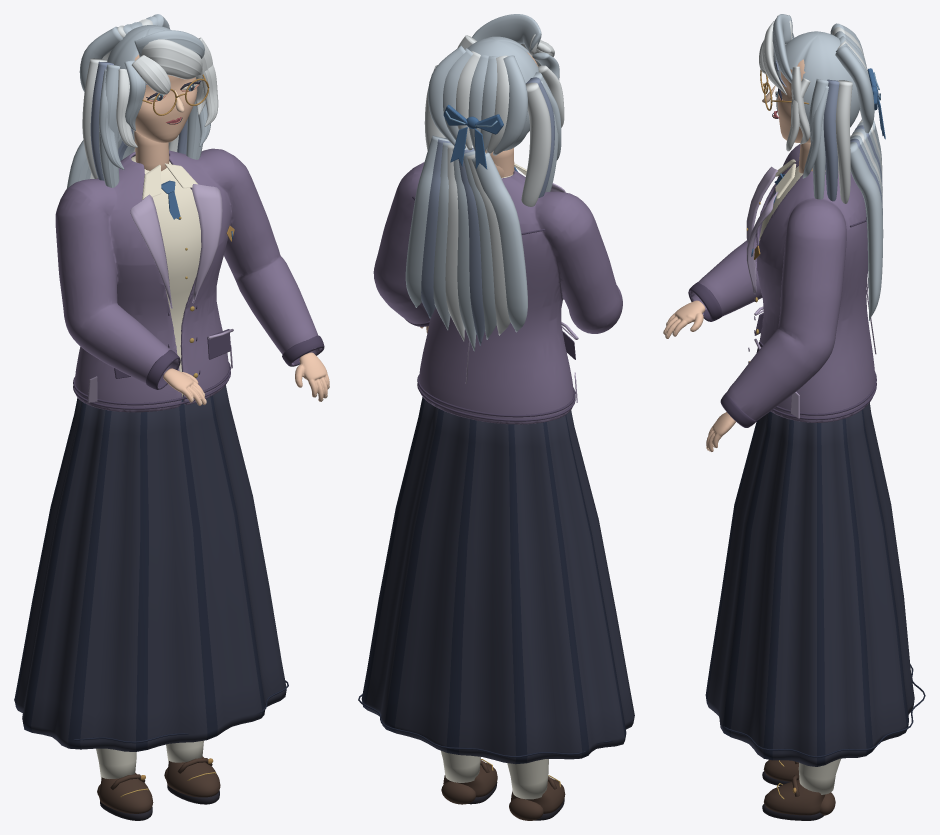
Rendered from study-companion.glb.
The picture shows the model from 3 angles, left to right: view 1: azimuth 30°, elevation 25°; view 2: azimuth 150°, elevation 25°; view 3: azimuth 270°, elevation 25°; orthographic projection.
Visible parts, largest first — view 1: lowerStand__Long pleated charcoal skirt, upper_look__Continuous shoulder axilla cardigan, upper_look__Ivory blouse under cardigan, headOpen__Sculpted facial planes, upper_look__Rolled tailored lapel.001, upper_look__Rolled tailored lapel, hair__Swept fringe 00, lowerStand__Mary Jane leather upper.001, lowerStand__Mary Jane leather upper, hair__Long temple lock, hands_look__Continuous anatomical hand 1, hair__Long temple lock.002 (+17 smaller); view 2: lowerStand__Long pleated charcoal skirt, upper_look__Continuous shoulder axilla cardigan, upper_look__Long back sculpted ribbon 00, hair__Long temple lock.002, upper_look__Long back sculpted ribbon 08, upper_look__Long back sculpted ribbon 04, upper_look__Long back sculpted ribbon 05, upper_look__Long back sculpted ribbon 06, upper_look__Long back sculpted ribbon 03, upper_look__Long back sculpted ribbon 02, upper_look__Long back sculpted ribbon 07, upper_look__Long back sculpted ribbon 01 (+19 smaller); view 3: lowerStand__Long pleated charcoal skirt, upper_look__Continuous shoulder axilla cardigan, hair__Silver crown, upper_look__Long back sculpted ribbon 08, hair__Long temple lock.005, hair__Long temple lock.004, lowerStand__Mary Jane leather upper.001, hair__Crown back ridge.006, hair__Long temple lock.003, lowerStand__Cream stocking.001, hair__Swept fringe 01, hands_look__Continuous anatomical hand 0 (+12 smaller).
Part boxes in pixels (x1,y1,x2,y2): lowerStand__Long pleated charcoal skirt: (14, 385, 286, 751); upper_look__Continuous shoulder axilla cardigan: (55, 148, 322, 412); upper_look__Ivory blouse under cardigan: (131, 156, 201, 397); headOpen__Sculpted facial planes: (134, 54, 197, 142); upper_look__Rolled tailored lapel.001: (191, 184, 222, 303); upper_look__Rolled tailored lapel: (130, 194, 172, 308); hair__Swept fringe 00: (138, 39, 202, 79); lowerStand__Mary Jane leather upper.001: (166, 756, 220, 797); lowerStand__Mary Jane leather upper: (99, 773, 153, 813); hair__Long temple lock: (99, 64, 120, 187); hands_look__Continuous anatomical hand 1: (295, 352, 329, 401); hair__Long temple lock.002: (82, 58, 107, 178); lowerStand__Long pleated charcoal skirt: (361, 397, 634, 764); upper_look__Continuous shoulder axilla cardigan: (373, 162, 622, 424); upper_look__Long back sculpted ribbon 00: (471, 152, 527, 332); hair__Long temple lock.002: (521, 82, 551, 206); upper_look__Long back sculpted ribbon 08: (405, 135, 448, 307); upper_look__Long back sculpted ribbon 04: (452, 147, 476, 351); upper_look__Long back sculpted ribbon 05: (445, 145, 466, 341); upper_look__Long back sculpted ribbon 06: (433, 142, 453, 330); upper_look__Long back sculpted ribbon 03: (458, 148, 484, 345); upper_look__Long back sculpted ribbon 02: (463, 151, 496, 339); upper_look__Long back sculpted ribbon 07: (421, 139, 450, 318); upper_look__Long back sculpted ribbon 01: (467, 152, 510, 335); lowerStand__Long pleated charcoal skirt: (705, 403, 914, 766); upper_look__Continuous shoulder axilla cardigan: (689, 144, 875, 422); hair__Silver crown: (785, 31, 860, 127); upper_look__Long back sculpted ribbon 08: (850, 142, 883, 319); hair__Long temple lock.005: (835, 80, 852, 203); hair__Long temple lock.004: (823, 79, 839, 201); lowerStand__Mary Jane leather upper.001: (764, 779, 825, 815); hair__Crown back ridge.006: (835, 45, 874, 133); hair__Long temple lock.003: (809, 79, 828, 199); lowerStand__Cream stocking.001: (798, 758, 840, 794); hair__Swept fringe 01: (772, 14, 792, 83); hands_look__Continuous anatomical hand 0: (664, 300, 705, 338).
Bounding box in the file's own units: 0.6188 × 1.77 × 0.5432.
